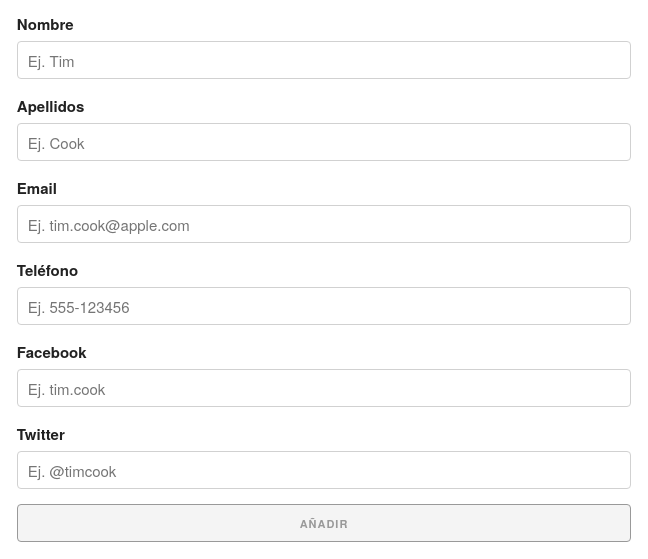
FormularioContactoComponent › deshabilita «Añadir» hasta que todos los campos tienen valor
Check: the submit button is disabled, box [17,504,631,542]
Type "Tim" into the field labelled "Nombre" at (324, 60), box [17,41,631,79]
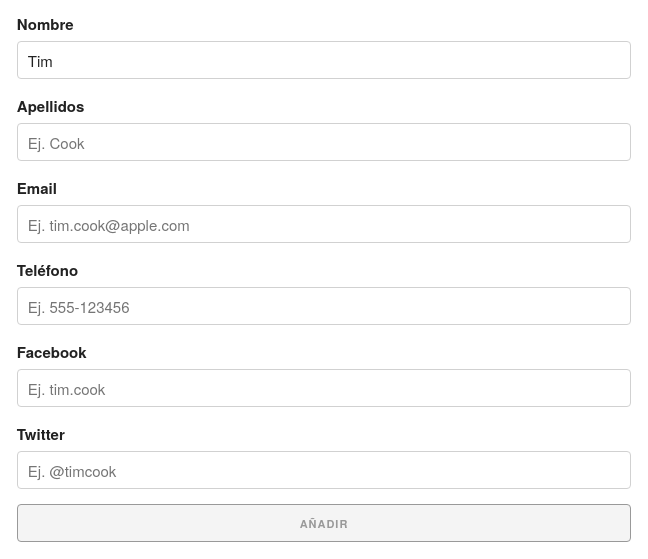
Type "Cook" into the field labelled "Apellidos" at (324, 142), box [17,123,631,161]
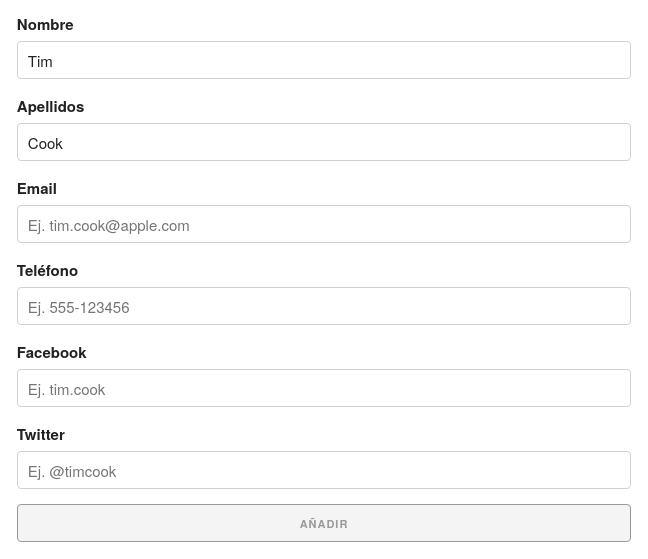
Type "tim.cook@apple.com" into the field labelled "Email" at (324, 224), box [17,205,631,243]
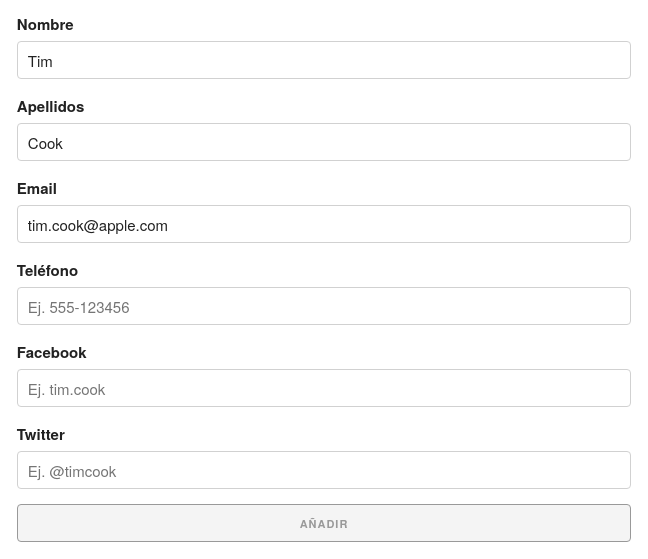
Type "555-123456" into the field labelled "Teléfono" at (324, 306), box [17,287,631,325]
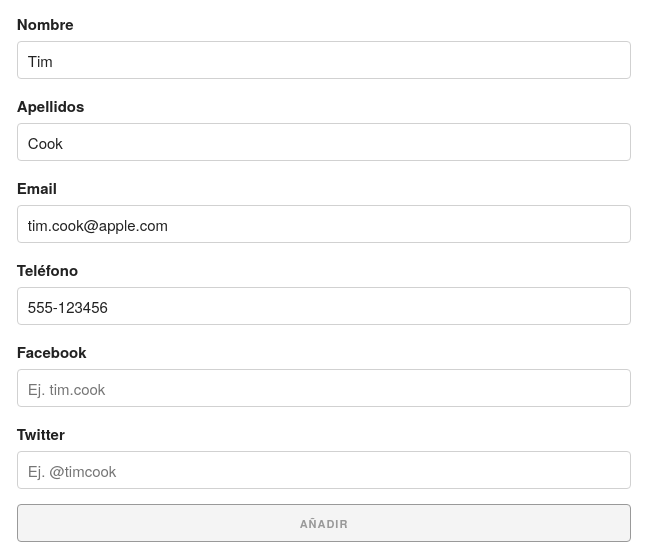
Type "tim.cook" into the field labelled "Facebook" at (324, 388), box [17,369,631,407]
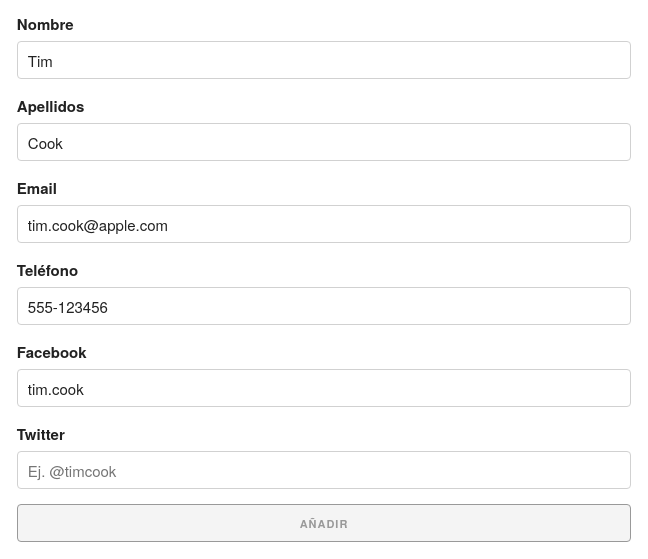
Check: the submit button is disabled, box [17,504,631,542]
Type "@timcook" into the field labelled "Twitter" at (324, 470), box [17,451,631,489]
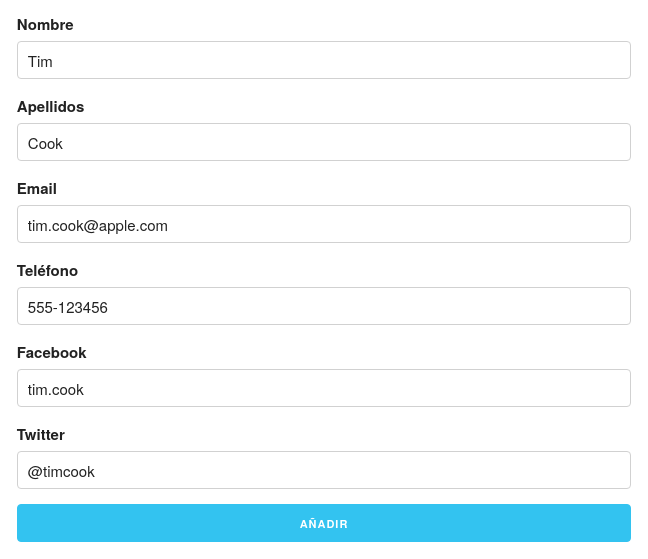
Check: the submit button is enabled, box [17,504,631,542]
